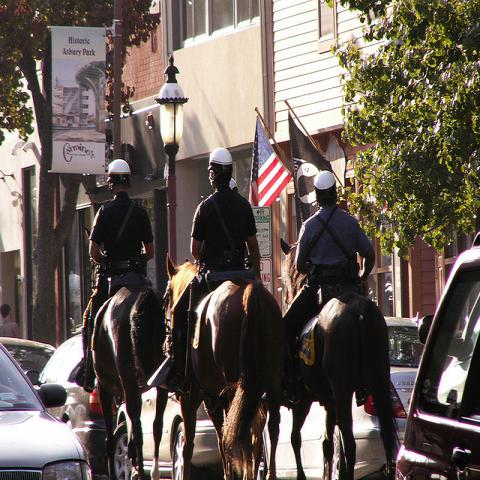car: (261, 316, 426, 474), (402, 232, 479, 471), (1, 342, 90, 473), (27, 334, 108, 472), (106, 386, 224, 479), (1, 337, 60, 391)
